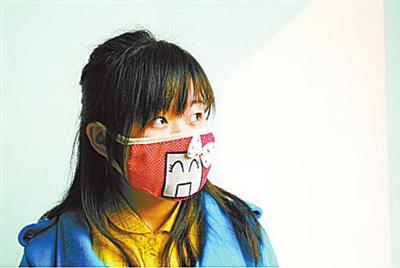OK: (107, 89, 216, 198)
